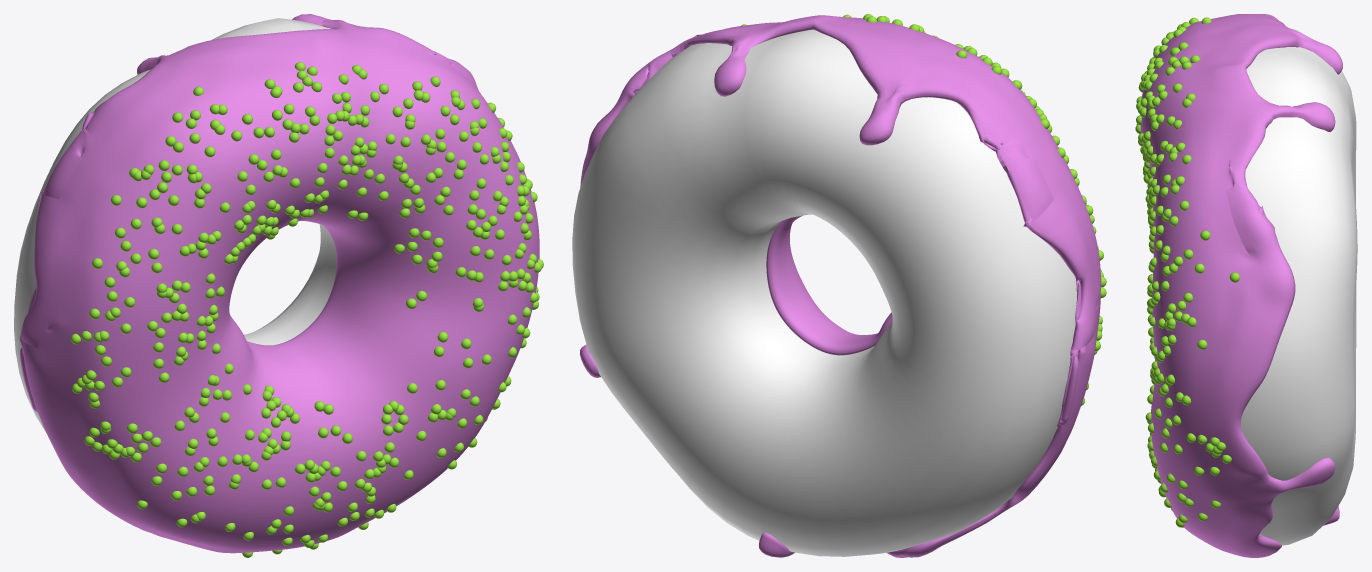
File: donut.glb
3 renders of one model, left to right at view 1: azimuth 30°, elevation 25°; view 2: azimuth 150°, elevation 25°; view 3: azimuth 270°, elevation 25°, orthographic. The views are drawn at different scales.
Parts seen in each view (by area): view 1: Icing, Donut; view 2: Donut, Icing; view 3: Icing, Donut.
Boxes of the visible parts, x1,y1,x2,y2 form: Icing: (19, 14, 539, 553); Donut: (14, 18, 366, 433); Donut: (572, 29, 1076, 556); Icing: (580, 15, 1101, 557); Icing: (1140, 14, 1342, 557); Donut: (1241, 28, 1357, 545).
Bounding box in the file's own units: 0.1294 × 0.1266 × 0.0533.
3 materials, 1 textured.
